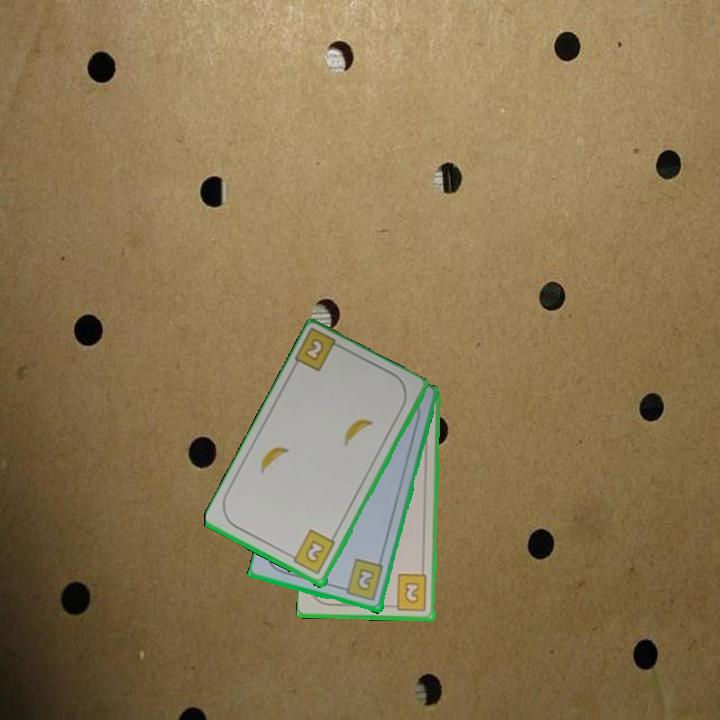2b: (285, 527, 338, 578), (337, 556, 386, 604), (387, 571, 430, 614), (301, 335, 327, 364)
